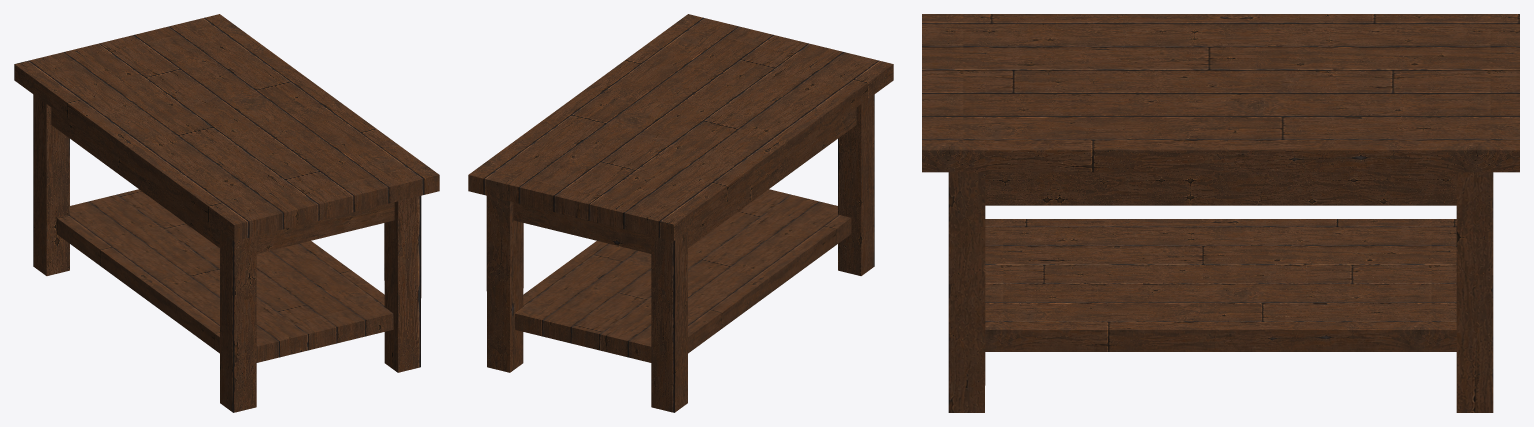
Rendered from Table_2_small.fbx.
The picture shows the model from 3 angles, left to right: view 1: azimuth 30°, elevation 25°; view 2: azimuth 150°, elevation 25°; view 3: azimuth 270°, elevation 25°; orthographic projection. The views are drawn at different scales.
Visible parts, largest first — view 1: Table_2_small; view 2: Table_2_small; view 3: Table_2_small.
Part boxes in pixels (x1,y1,x2,y2): Table_2_small: (14,14,439,412); Table_2_small: (468,14,893,412); Table_2_small: (922,14,1519,412).
Bounding box in the file's own units: 62.49 × 57.74 × 116.
